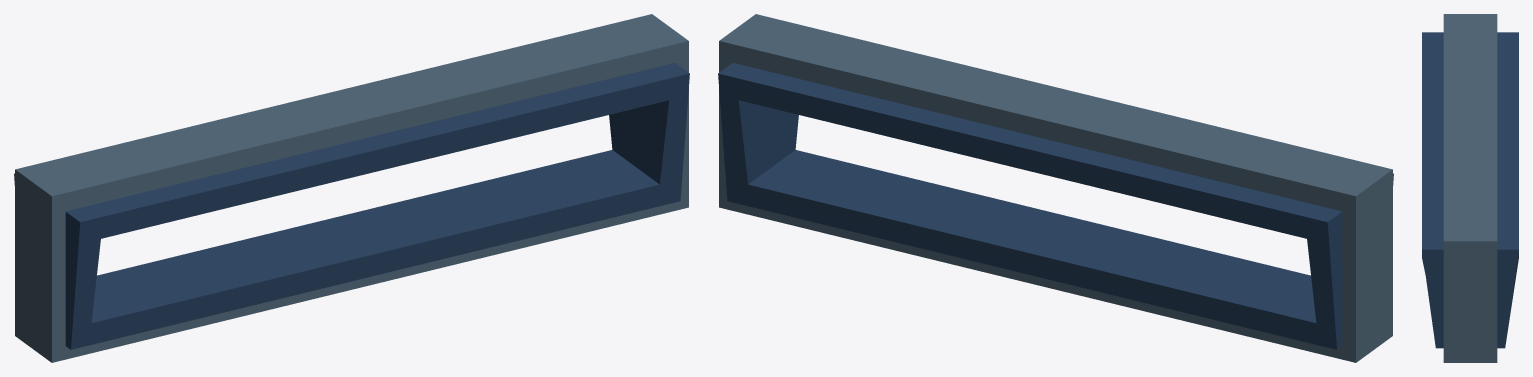
File: W1_WindowSquare_2m_Top.fbx
The picture shows the model from 3 angles, left to right: view 1: azimuth 30°, elevation 25°; view 2: azimuth 150°, elevation 25°; view 3: azimuth 270°, elevation 25°; orthographic projection. The views are drawn at different scales.
Visible parts, largest first — view 1: W1_WindowSquare_2m_Top.001; view 2: W1_WindowSquare_2m_Top.001; view 3: W1_WindowSquare_2m_Top.001.
Part boxes in pixels (x1=…): W1_WindowSquare_2m_Top.001: x1=14, y1=14, x2=689, y2=362; W1_WindowSquare_2m_Top.001: x1=718, y1=14, x2=1393, y2=362; W1_WindowSquare_2m_Top.001: x1=1422, y1=14, x2=1518, y2=362.
Size of the model in its own units: 2 by 0.5 by 0.3603.
